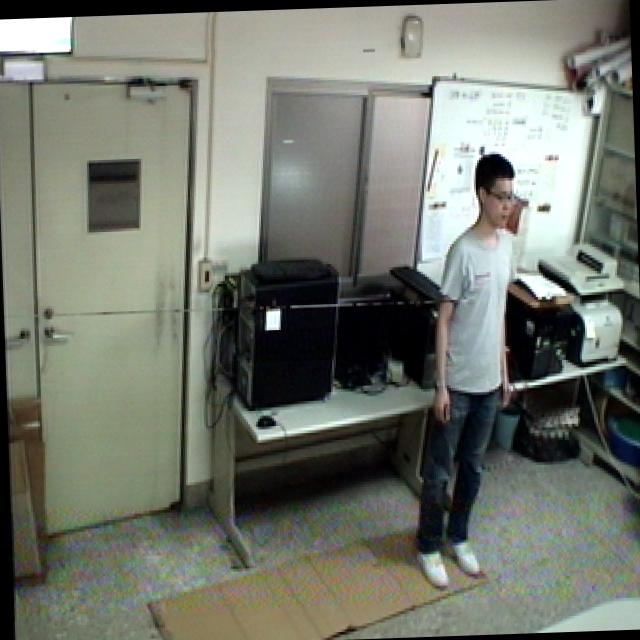stand: (388, 146, 534, 598)
